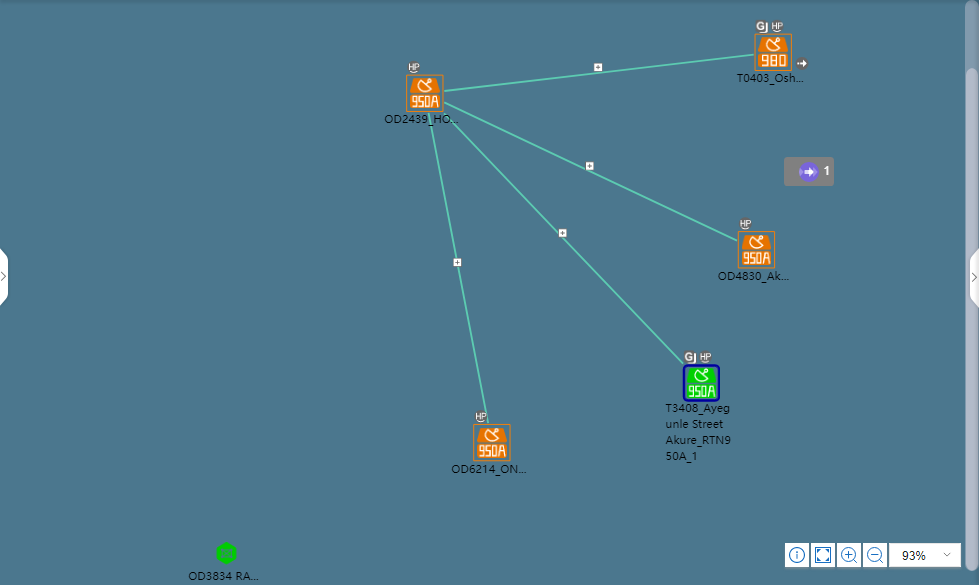Link_Blue: (444, 112, 687, 366), (444, 100, 742, 245), (425, 112, 488, 423), (444, 51, 751, 98)
RTN_Green: (682, 369, 717, 404)
RTN_Orange: (756, 32, 788, 74), (737, 234, 771, 270), (474, 424, 508, 459), (407, 75, 441, 109)
